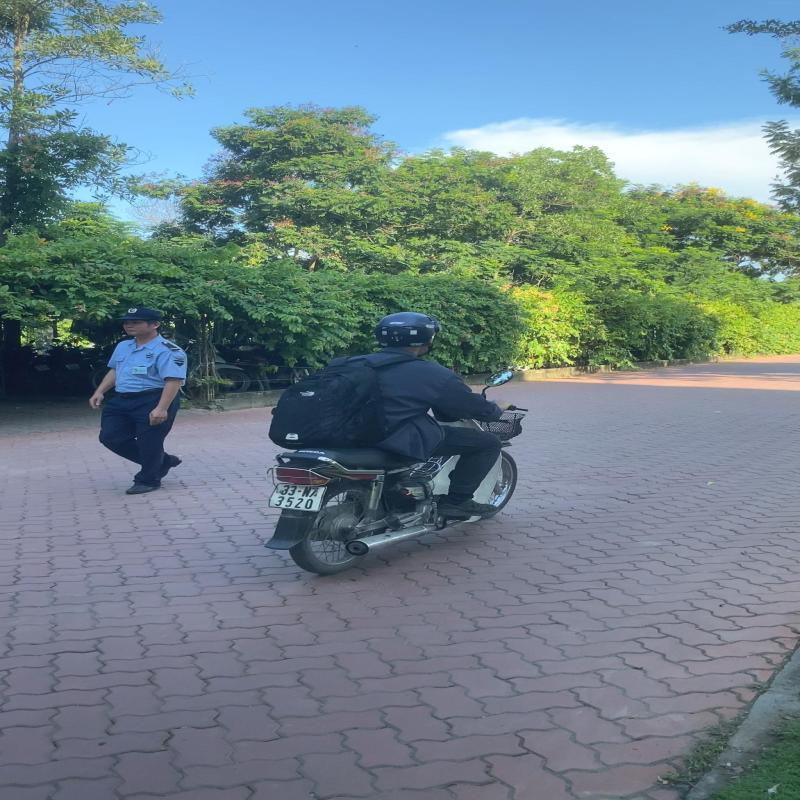helmet: (372, 310, 447, 349)
licenseplate: (266, 482, 328, 513)
motorcyclist: (265, 312, 528, 576)
